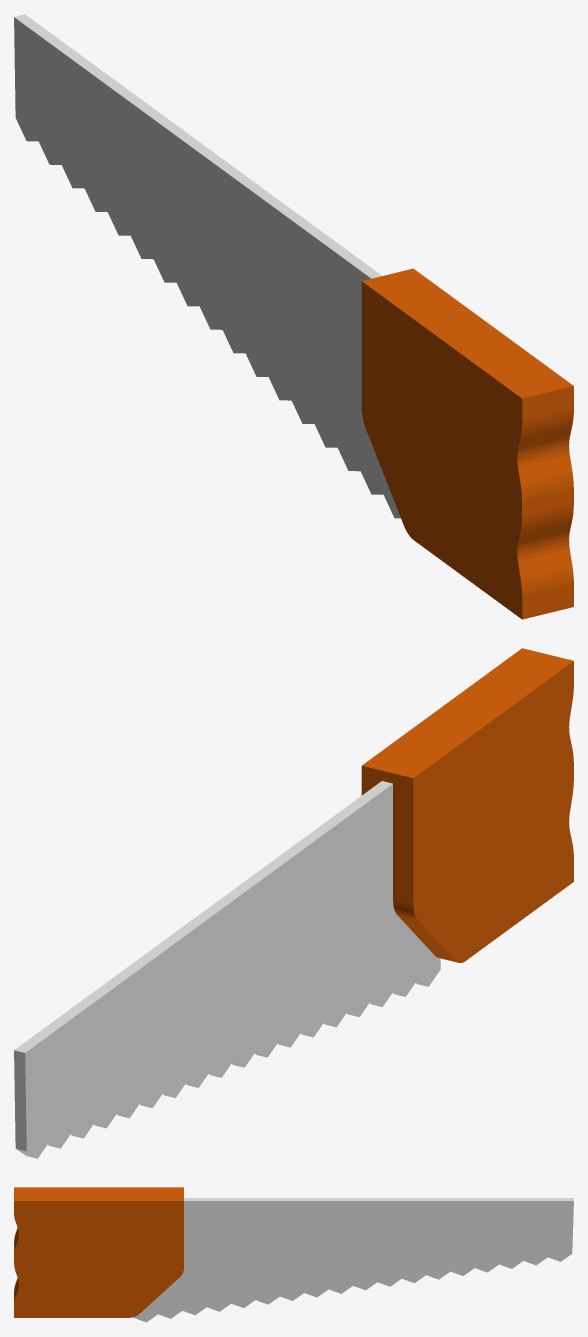
File: Saw.fbx
3 views of the same model, one above another, from view 1: azimuth 30°, elevation 25°; view 2: azimuth 150°, elevation 25°; view 3: azimuth 270°, elevation 25° (orthographic). The views are drawn at different scales.
Visible parts, largest first — view 1: Cube, Cube.001; view 2: Cube, Cube.001; view 3: Cube, Cube.001.
Boxes of the visible parts, x1,y1,x2,y2 form: Cube: [14, 14, 400, 518]; Cube.001: [361, 268, 573, 619]; Cube: [14, 781, 440, 1158]; Cube.001: [361, 648, 573, 962]; Cube: [133, 1198, 573, 1322]; Cube.001: [14, 1187, 183, 1317].
Size of the model in its own units: 27.08 by 120 by 479.
